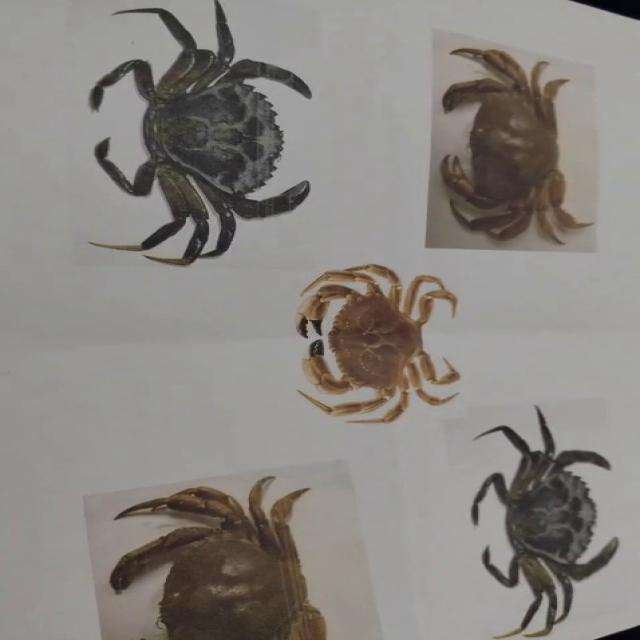egc: (90, 0, 309, 264), (471, 407, 617, 639)
